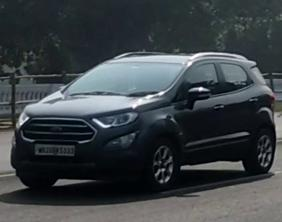Car: (9, 46, 279, 191)
